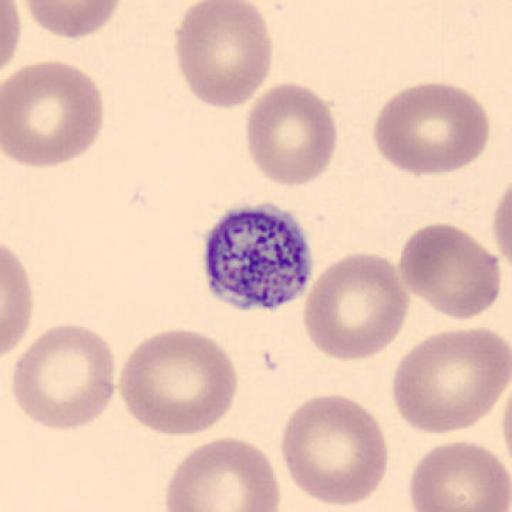Platelet: (198, 200, 316, 312)
RBC: (118, 327, 239, 437), (391, 327, 511, 435), (280, 393, 390, 508), (302, 251, 411, 363), (11, 322, 118, 432), (372, 80, 491, 177), (2, 58, 105, 168), (174, 0, 274, 110), (397, 222, 502, 322), (244, 81, 338, 190), (164, 436, 282, 512), (407, 438, 511, 512), (22, 0, 122, 41), (1, 243, 33, 358), (490, 178, 512, 285), (0, 0, 23, 75), (490, 187, 512, 263)
